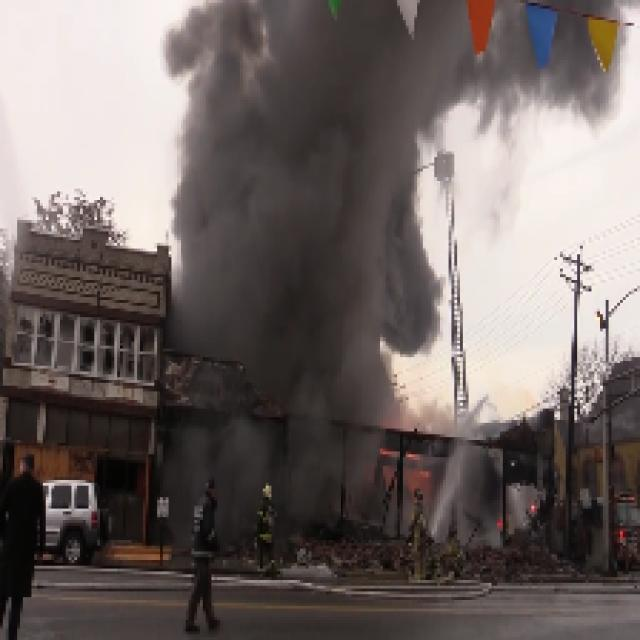Smoke: (166, 40, 432, 349), (440, 66, 617, 140), (294, 357, 377, 483), (163, 423, 266, 491)
